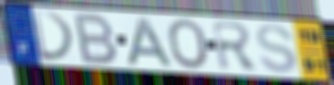A: (125, 16, 177, 70)
B: (73, 12, 120, 66)
D: (30, 9, 78, 63)
O: (165, 18, 211, 71)
R: (210, 20, 262, 72)
S: (254, 23, 299, 75)
